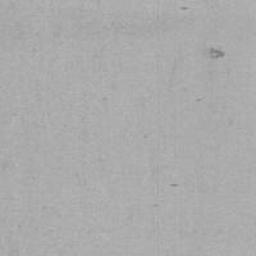Inclusion: (207, 47, 227, 60)
